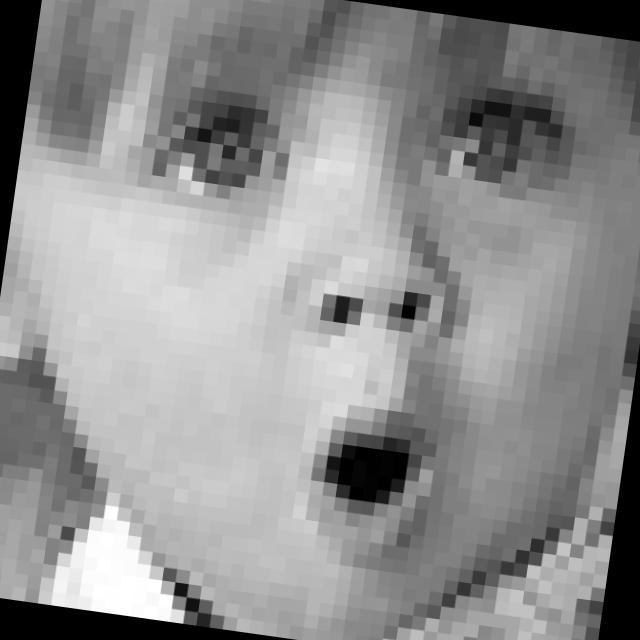surprise: (94, 23, 603, 595)
